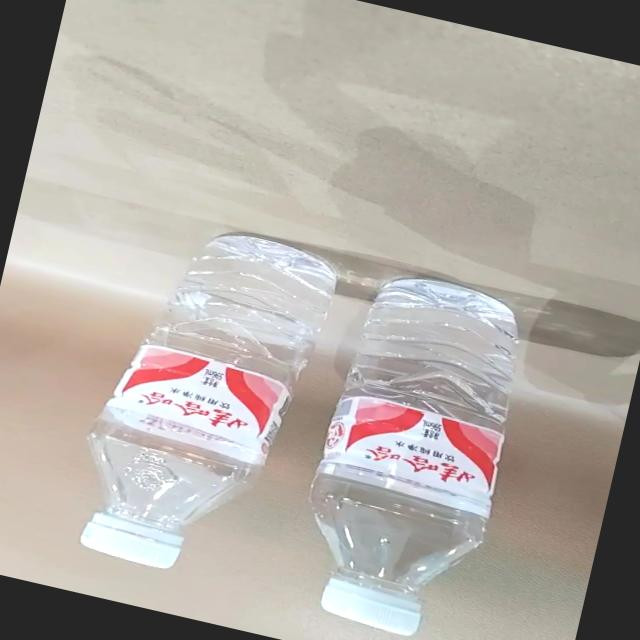bottle: (58, 204, 350, 597), (285, 255, 545, 640)
